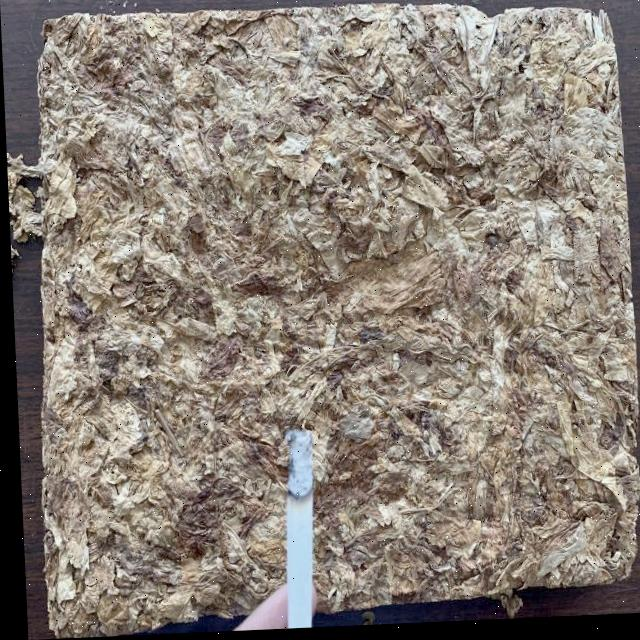cigarette: (276, 434, 316, 630)
